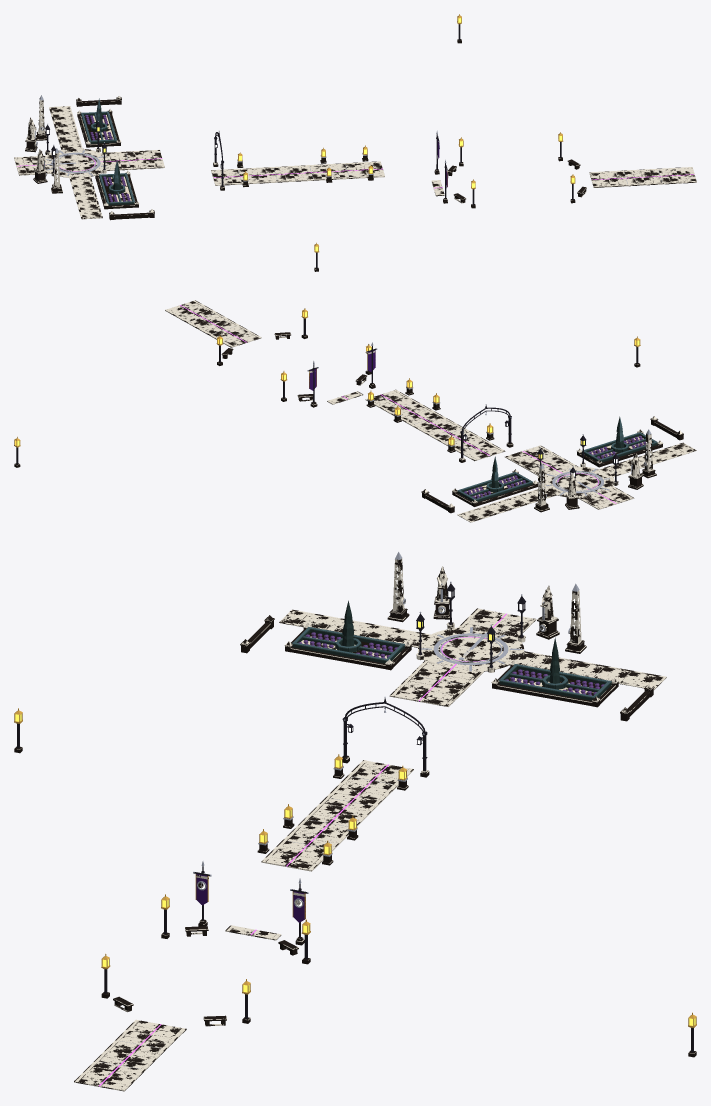
File: ILHA3_09_PROPS_ac1e1a.fbx
3 renders of one model, top to bottom at view 1: azimuth 30°, elevation 25°; view 2: azimuth 150°, elevation 25°; view 3: azimuth 270°, elevation 25°, orthographic. The views are drawn at different scales.
Visible parts, largest first — view 1: SG_Prop_NobleAxis_P2P3__Stone_SG_Obsidian, SG_Prop_NobleAxis_P2P3__Stone_SG_MarbleBlack, SG_Prop_Court__Stone_SG_Obsidian, SG_Prop_NobleAxis_P2P3__Stone_SG_Floor, SG_Prop_NobleAxis_P1__Stone_SG_MarbleBlack, SG_Prop_NobleAxis_P2P3__Stone_SG_Trim, SG_Prop_NobleAxis_P1__Stone_SG_Obsidian, SG_Prop_Court__Leaf_SGVegMoon, SG_Prop_Court__Leaf_SG_Pine, SG_Prop_NobleAxis_P2P3__Metal_SG_Silver, SG_Prop_Court__Dirt_SG, SG_Prop_Court__Leaf_SGPropBloom; view 2: SG_Prop_NobleAxis_P2P3__Stone_SG_MarbleBlack, SG_Prop_NobleAxis_P2P3__Stone_SG_Obsidian, SG_Prop_Court__Stone_SG_Obsidian, SG_Prop_NobleAxis_P2P3__Stone_SG_Floor, SG_Prop_NobleAxis_P1__Stone_SG_MarbleBlack, SG_Prop_Court__Leaf_SG_Pine, SG_Prop_Court__Leaf_SGVegMoon, SG_Prop_NobleAxis_P2P3__Stone_SG_Trim, SG_Prop_NobleAxis_P1__Stone_SG_Obsidian, SG_Prop_NobleAxis_P2P3__Metal_SG_Silver, SG_Prop_Court__Leaf_SGPropBloom, SG_Prop_Court__Stone_SG_Trim (+2 smaller); view 3: SG_Prop_NobleAxis_P2P3__Stone_SG_MarbleBlack, SG_Prop_NobleAxis_P2P3__Stone_SG_Obsidian, SG_Prop_Court__Stone_SG_Obsidian, SG_Prop_NobleAxis_P2P3__Stone_SG_Floor, SG_Prop_NobleAxis_P1__Stone_SG_MarbleBlack, SG_Prop_Court__Leaf_SG_Pine, SG_Prop_NobleAxis_P1__Stone_SG_Obsidian, SG_Prop_Court__Leaf_SGVegMoon, SG_Prop_NobleAxis_P2P3__Stone_SG_Trim, SG_Prop_NobleAxis_P2P3__Metal_SG_Silver, SG_Prop_Court__Leaf_SGPropBloom.
Part boxes in pixels (left/top/right/bottom): SG_Prop_NobleAxis_P2P3__Stone_SG_Obsidian: left=14, top=108, right=384, bottom=213; SG_Prop_NobleAxis_P2P3__Stone_SG_MarbleBlack: left=14, top=151, right=384, bottom=183; SG_Prop_Court__Stone_SG_Obsidian: left=25, top=96, right=154, bottom=216; SG_Prop_NobleAxis_P2P3__Stone_SG_Floor: left=51, top=107, right=102, bottom=219; SG_Prop_NobleAxis_P1__Stone_SG_MarbleBlack: left=432, top=168, right=696, bottom=200; SG_Prop_NobleAxis_P2P3__Stone_SG_Trim: left=14, top=106, right=384, bottom=219; SG_Prop_NobleAxis_P1__Stone_SG_Obsidian: left=431, top=142, right=696, bottom=203; SG_Prop_Court__Leaf_SGVegMoon: left=81, top=98, right=134, bottom=203; SG_Prop_Court__Leaf_SG_Pine: left=81, top=101, right=134, bottom=205; SG_Prop_NobleAxis_P2P3__Metal_SG_Silver: left=46, top=150, right=373, bottom=182; SG_Prop_Court__Dirt_SG: left=81, top=115, right=131, bottom=202; SG_Prop_Court__Leaf_SGPropBloom: left=85, top=114, right=130, bottom=202; SG_Prop_NobleAxis_P2P3__Stone_SG_MarbleBlack: left=374, top=390, right=631, bottom=508; SG_Prop_NobleAxis_P2P3__Stone_SG_Obsidian: left=365, top=388, right=684, bottom=520; SG_Prop_Court__Stone_SG_Obsidian: left=421, top=416, right=683, bottom=512; SG_Prop_NobleAxis_P2P3__Stone_SG_Floor: left=458, top=443, right=695, bottom=522; SG_Prop_NobleAxis_P1__Stone_SG_MarbleBlack: left=168, top=301, right=374, bottom=404; SG_Prop_Court__Leaf_SG_Pine: left=457, top=416, right=657, bottom=501; SG_Prop_Court__Leaf_SGVegMoon: left=457, top=417, right=657, bottom=499; SG_Prop_NobleAxis_P2P3__Stone_SG_Trim: left=366, top=389, right=696, bottom=522; SG_Prop_NobleAxis_P1__Stone_SG_Obsidian: left=165, top=300, right=375, bottom=407; SG_Prop_NobleAxis_P2P3__Metal_SG_Silver: left=367, top=387, right=609, bottom=495; SG_Prop_Court__Leaf_SGPropBloom: left=464, top=435, right=645, bottom=498; SG_Prop_Court__Stone_SG_Trim: left=535, top=453, right=655, bottom=507; SG_Prop_NobleAxis_P2P3__Stone_SG_MarbleBlack: left=266, top=609, right=531, bottom=869; SG_Prop_NobleAxis_P2P3__Stone_SG_Obsidian: left=257, top=608, right=657, bottom=871; SG_Prop_Court__Stone_SG_Obsidian: left=240, top=558, right=654, bottom=714; SG_Prop_NobleAxis_P2P3__Stone_SG_Floor: left=279, top=611, right=666, bottom=689; SG_Prop_NobleAxis_P1__Stone_SG_MarbleBlack: left=78, top=919, right=303, bottom=1089; SG_Prop_Court__Leaf_SG_Pine: left=292, top=600, right=611, bottom=700; SG_Prop_NobleAxis_P1__Stone_SG_Obsidian: left=74, top=875, right=305, bottom=1091; SG_Prop_Court__Leaf_SGVegMoon: left=292, top=627, right=611, bottom=697; SG_Prop_NobleAxis_P2P3__Stone_SG_Trim: left=261, top=608, right=666, bottom=870; SG_Prop_NobleAxis_P2P3__Metal_SG_Silver: left=258, top=627, right=523, bottom=856; SG_Prop_Court__Leaf_SGPropBloom: left=298, top=632, right=604, bottom=695.
Size of the model in its own units: 215 by 32.1 by 149.
Materials: 13 (3 with a texture image).
